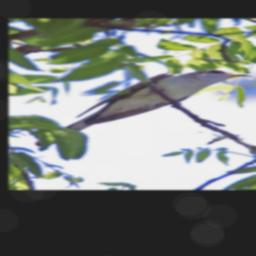Cuckoo: (34, 69, 251, 147)
